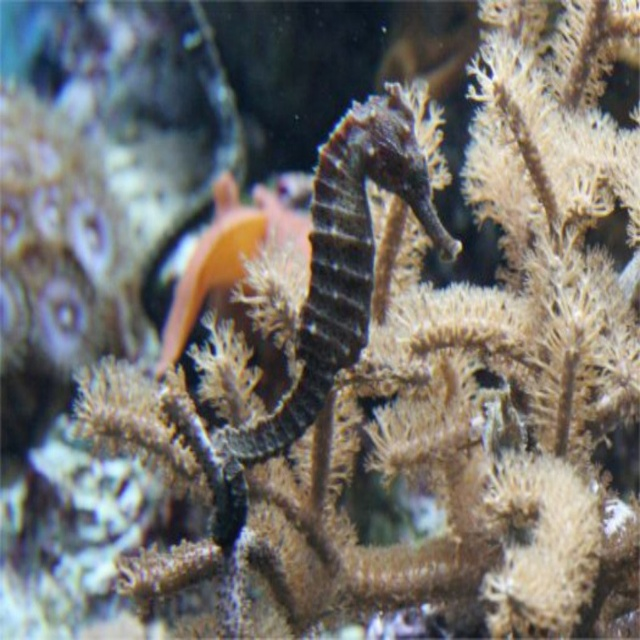Seahorse: (212, 82, 463, 548)
